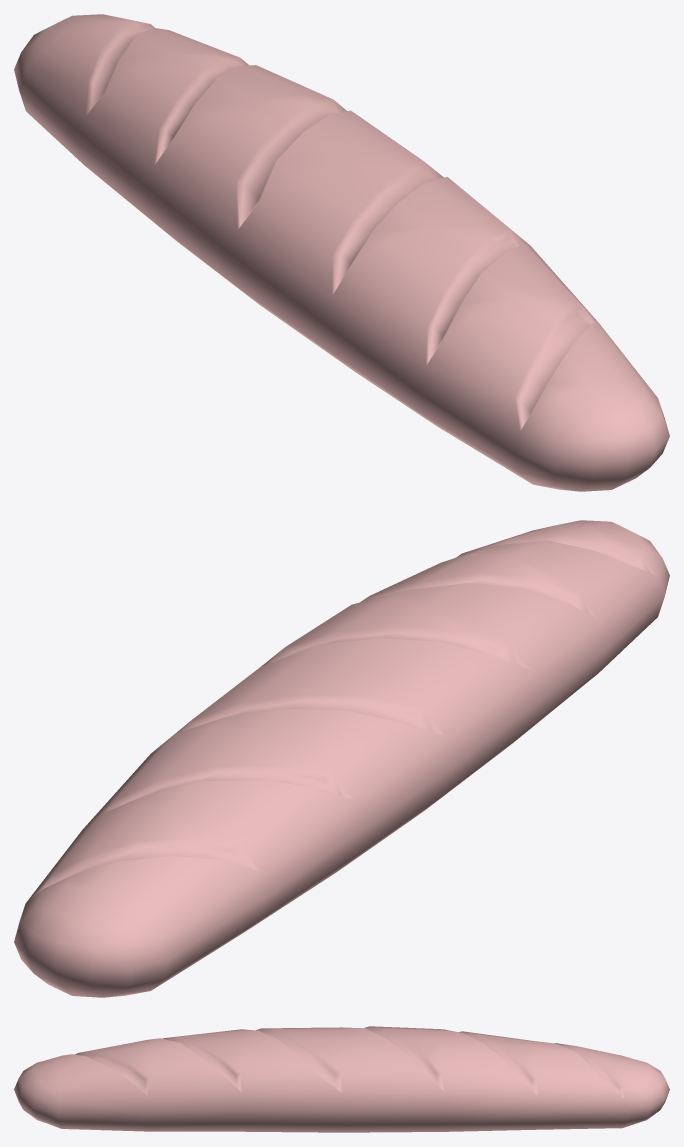
File: PROPS_GOODS_FRENCHBREAD_MODEL.fbx
The picture shows the model from 3 angles, top to bottom: view 1: azimuth 30°, elevation 25°; view 2: azimuth 150°, elevation 25°; view 3: azimuth 270°, elevation 25°; orthographic projection. The views are drawn at different scales.
Parts seen in each view (by area): view 1: PROPS_GOODS_FRENCHBREAD_MODEL; view 2: PROPS_GOODS_FRENCHBREAD_MODEL; view 3: PROPS_GOODS_FRENCHBREAD_MODEL.
Part boxes in pixels (left/top/right/bottom): PROPS_GOODS_FRENCHBREAD_MODEL: left=14, top=14, right=669, bottom=491; PROPS_GOODS_FRENCHBREAD_MODEL: left=14, top=520, right=669, bottom=997; PROPS_GOODS_FRENCHBREAD_MODEL: left=14, top=1026, right=669, bottom=1132.
Bounding box in the file's own units: 8.58 × 5.34 × 38.03.
